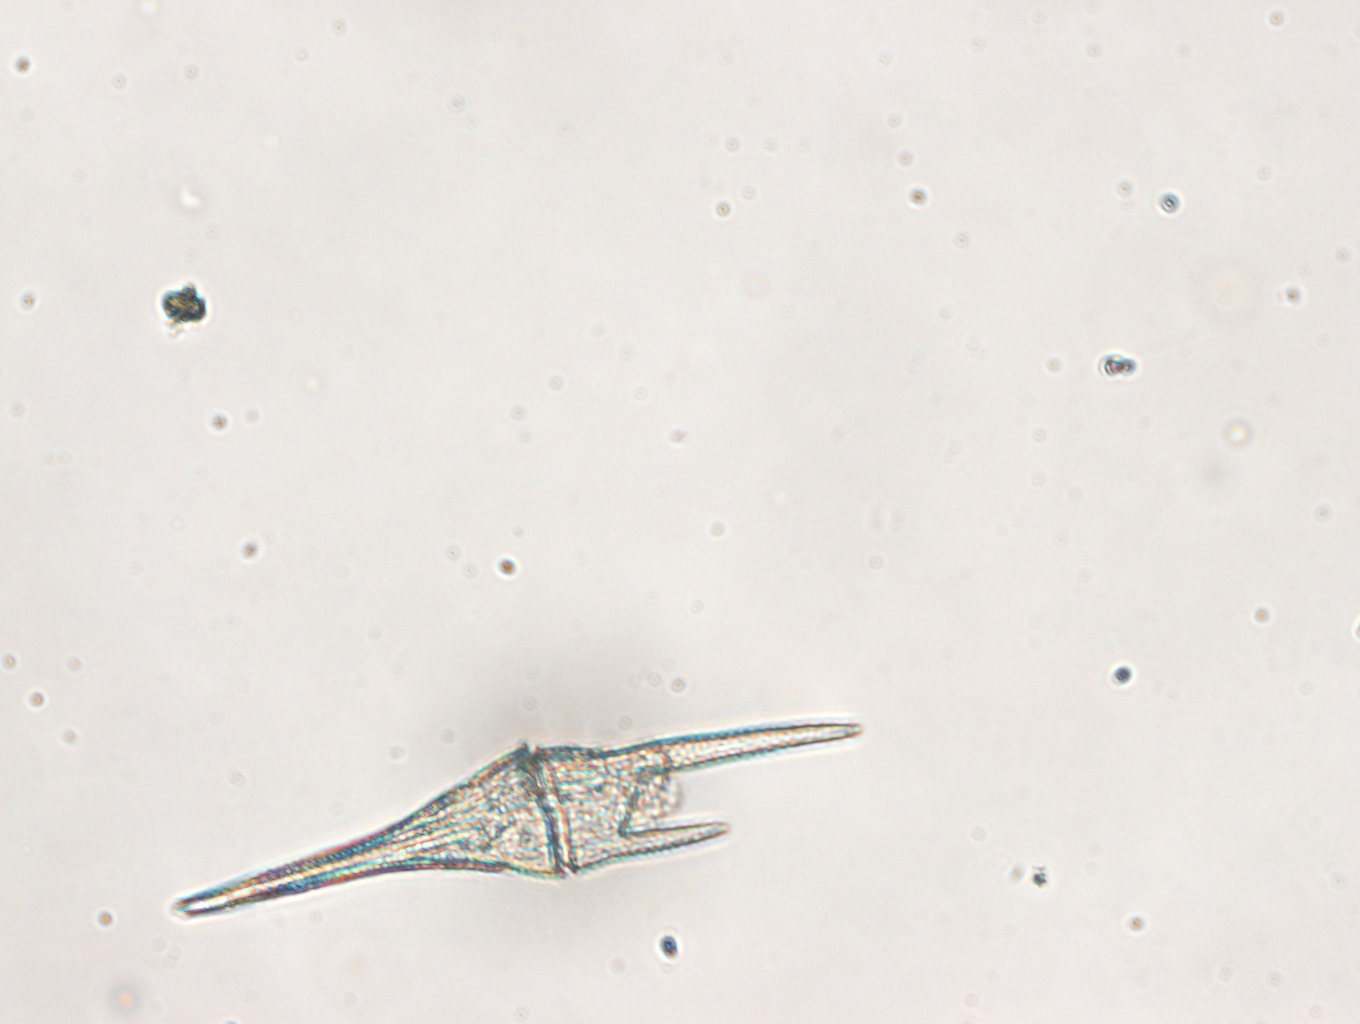ceratium furca: (168, 720, 863, 920)
